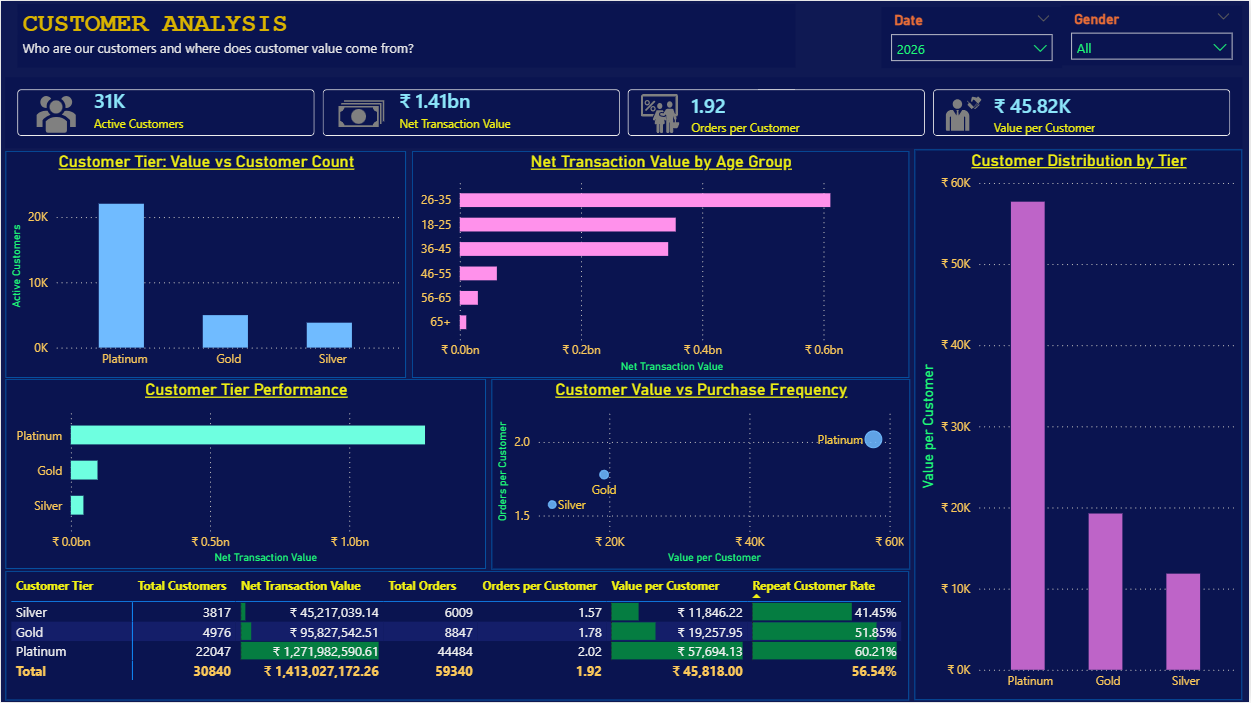

Layout of this report page (visuals, bound fields, positions):
{"tool":"powerbi","page":{"name":"Customer Analysis","canvas":[1280,720],"ordinal":2},"visuals":[{"type":"slicer","fields":{"Values":["Dim_Date.Year","Dim_Date.Month"]},"box":[903,6,185.1,62.7],"z":0},{"type":"slicer","fields":{"Values":["Dim_Customers.gender"]},"box":[1088.3,4.9,185,61.6],"z":1000},{"type":"cardVisual","fields":{"Data":["_Measure.Total Customers","_Measure.Net Transaction Value","_Measure.Orders per Customer","_Measure.Value per Customer"]},"box":[4.7,79.1,1268.6,72.9],"z":2000},{"type":"clusteredBarChart","title":"Customer Tier Performance","fields":{"Category":["Dim_Customers.customer_tier"],"Y":["_Measure.Net Transaction Value"]},"box":[5.2,387.9,492.8,194.8],"z":3000},{"type":"clusteredColumnChart","title":"Customer Tier: Value vs Customer Count","fields":{"Category":["Dim_Customers.customer_tier"],"Y":["_Measure.Total Customers"]},"box":[4.7,153.5,411,232.6],"z":4000},{"type":"scatterChart","title":"Customer Value vs Purchase Frequency","fields":{"X":["_Measure.Value per Customer"],"Size":["_Measure.Total Customers"],"Y":["_Measure.Orders per Customer"],"Category":["Dim_Customers.customer_tier"]},"box":[502.4,387.8,429.3,195.1],"z":5000},{"type":"clusteredColumnChart","title":"Customer Distribution by Tier","fields":{"Y":["_Measure.Value per Customer by Tier"],"Category":["Dim_Customers.customer_tier"]},"box":[937.5,152.6,336.1,564.6],"z":6000},{"type":"clusteredBarChart","title":"Net Transaction Value by Age Group","fields":{"Y":["_Measure.Net Transaction Value"],"Category":["Dim_Customers.age_group"]},"box":[421.8,153.5,510.2,232.6],"z":7000},{"type":"pivotTable","fields":{"Rows":["Dim_Customers.customer_tier"],"Values":["_Measure.Total Customers","_Measure.Net Transaction Value","_Measure.Total Orders","_Measure.Orders per Customer","_Measure.Value per Customer","_Measure.Repeat Customer Rate"]},"box":[5.2,584.8,926.7,132.5],"z":8000},{"type":"textbox","box":[16.7,3,798,65.1],"z":9000}]}

Visuals, with their boxes in screenshot pixels (x1, y1, x2, y2), scaled from the page's 1280x720 canvas onto the 1251x703 screenshot:
slicer - Dim_Date.Year x Dim_Date.Month: <bbox>883, 6, 1063, 67</bbox>
slicer - Dim_Customers.gender: <bbox>1064, 5, 1244, 65</bbox>
cardVisual - _Measure.Total Customers x _Measure.Net Transaction Value: <bbox>5, 77, 1244, 148</bbox>
"Customer Tier Performance" clusteredBarChart: <bbox>5, 379, 487, 569</bbox>
"Customer Tier: Value vs Customer Count" clusteredColumnChart: <bbox>5, 150, 406, 377</bbox>
"Customer Value vs Purchase Frequency" scatterChart: <bbox>491, 379, 911, 569</bbox>
"Customer Distribution by Tier" clusteredColumnChart: <bbox>916, 149, 1245, 700</bbox>
"Net Transaction Value by Age Group" clusteredBarChart: <bbox>412, 150, 911, 377</bbox>
pivotTable - Dim_Customers.customer_tier x _Measure.Total Customers: <bbox>5, 571, 911, 700</bbox>
textbox: <bbox>16, 3, 796, 66</bbox>
